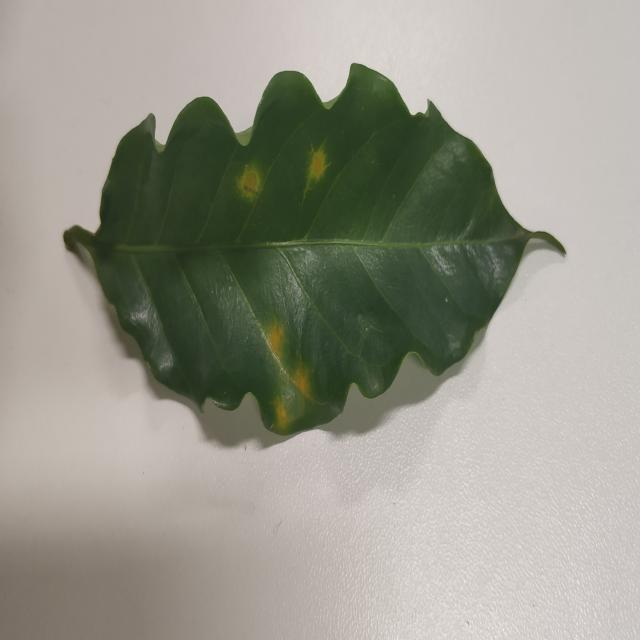Enfermedad-Roya: (62, 64, 568, 441)
